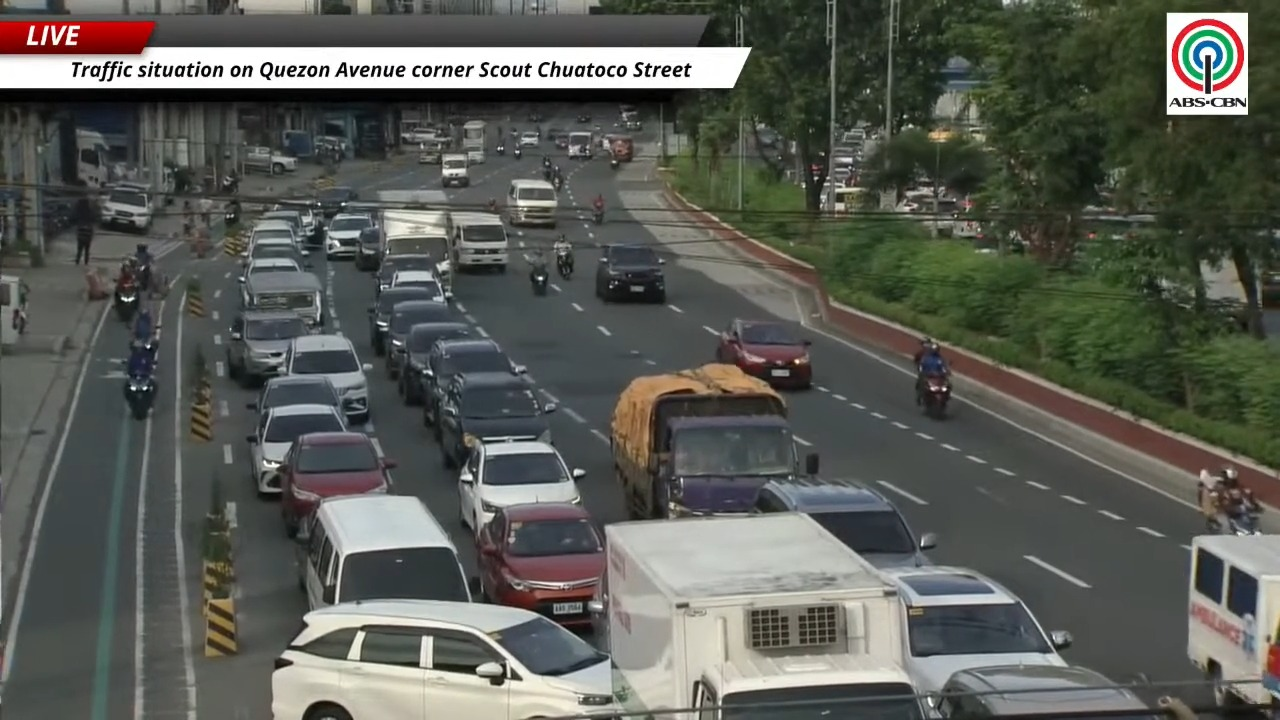bus: (462, 120, 487, 163), (833, 187, 867, 213), (568, 131, 593, 159)
car: (271, 599, 618, 719), (880, 566, 1071, 693), (752, 477, 936, 566), (477, 502, 604, 625), (277, 432, 395, 536), (928, 665, 1153, 719), (459, 440, 584, 532), (437, 370, 555, 466), (421, 338, 524, 438), (246, 404, 347, 494), (283, 334, 371, 424), (716, 320, 812, 388), (225, 309, 307, 386), (398, 322, 471, 405), (385, 300, 453, 379), (367, 287, 434, 356), (595, 244, 665, 302), (246, 375, 341, 416), (375, 254, 436, 294), (100, 187, 153, 232), (324, 213, 373, 259), (273, 200, 320, 243), (390, 269, 450, 302), (242, 239, 308, 268), (258, 208, 307, 241), (249, 218, 301, 249), (315, 186, 358, 221), (241, 257, 303, 281), (354, 227, 382, 270), (519, 131, 541, 148), (553, 131, 569, 149), (622, 118, 643, 131), (527, 111, 543, 122), (576, 113, 591, 122)
motorcycle: (919, 375, 951, 418), (125, 375, 155, 419), (114, 283, 138, 323), (1227, 510, 1261, 535), (530, 267, 550, 296), (136, 259, 153, 293), (556, 250, 573, 279), (220, 176, 238, 194), (224, 205, 239, 225), (592, 208, 604, 224), (553, 176, 563, 191), (487, 198, 497, 212), (542, 157, 551, 172), (610, 158, 620, 170), (495, 144, 505, 156), (543, 166, 551, 180), (513, 147, 521, 159)
truck: (588, 513, 923, 719), (611, 363, 818, 519), (1187, 535, 1279, 706), (376, 189, 453, 295), (54, 117, 111, 189), (243, 146, 297, 175), (441, 153, 469, 187)
